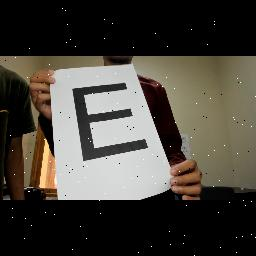e: (66, 79, 152, 163)
